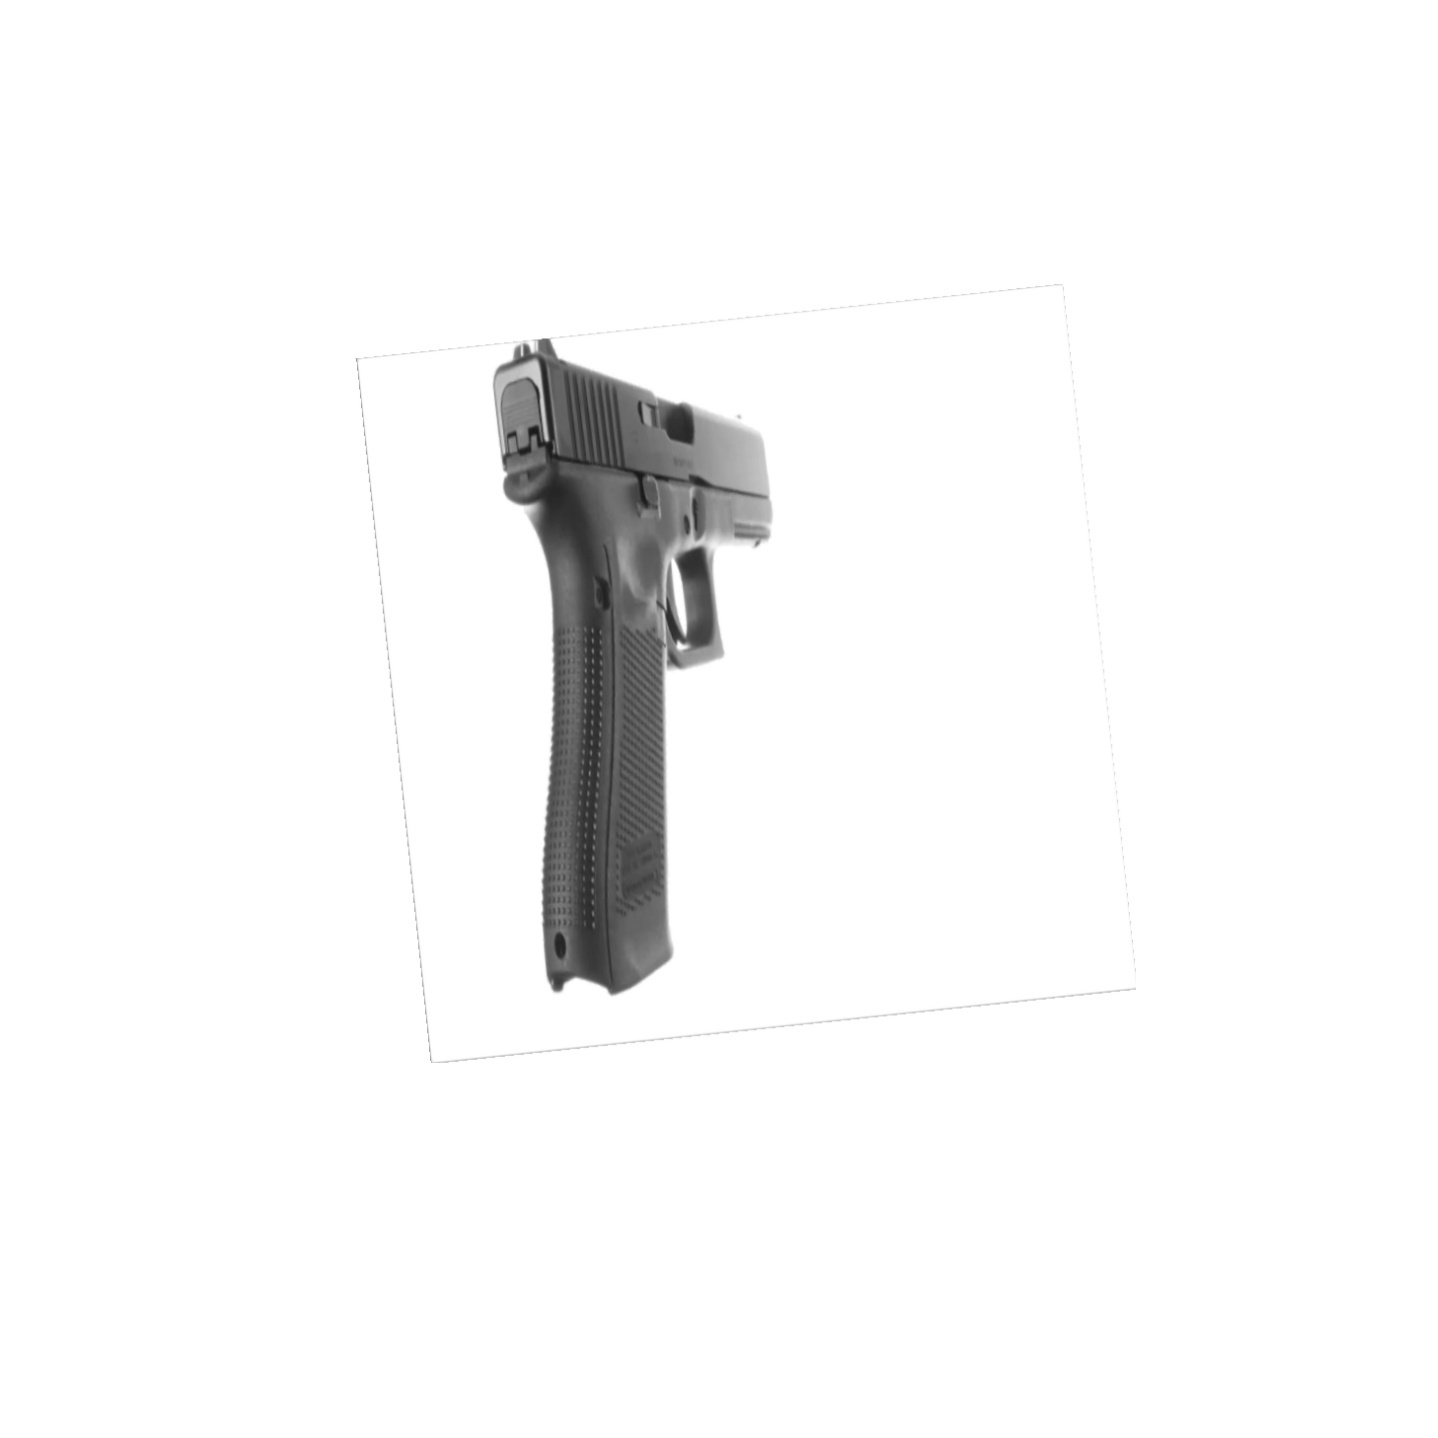gun: (481, 329, 777, 1003)
